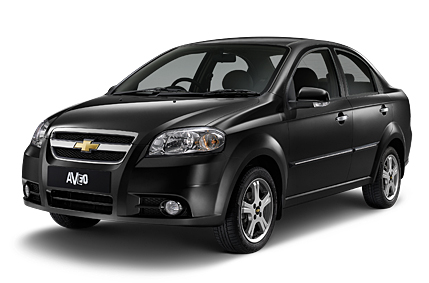sedan: (20, 35, 413, 254)
